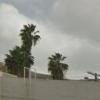Palm tree: (11, 16, 68, 82)
